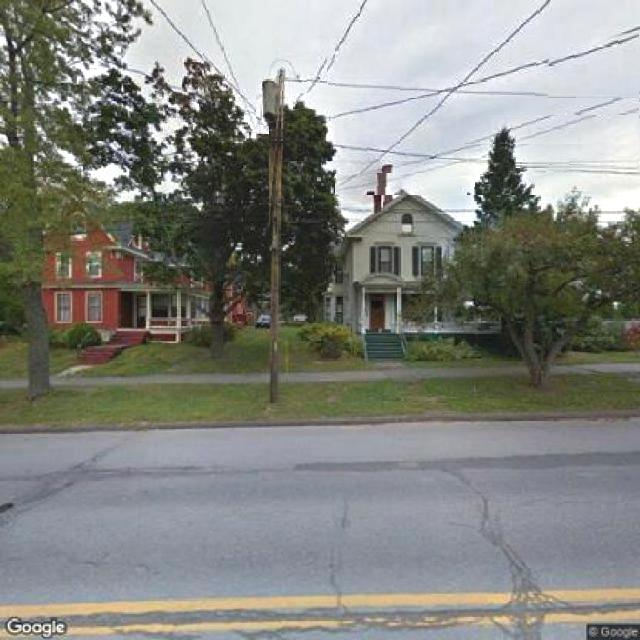pole: (269, 68, 284, 281)
transformer: (263, 80, 279, 122)
wire: (335, 1, 551, 192), (328, 32, 639, 121), (397, 98, 632, 170), (149, 0, 274, 134), (393, 115, 609, 181), (293, 0, 367, 109), (333, 145, 639, 171), (200, 1, 256, 131), (285, 78, 639, 88), (337, 207, 455, 214), (270, 59, 300, 79), (516, 166, 639, 168)
